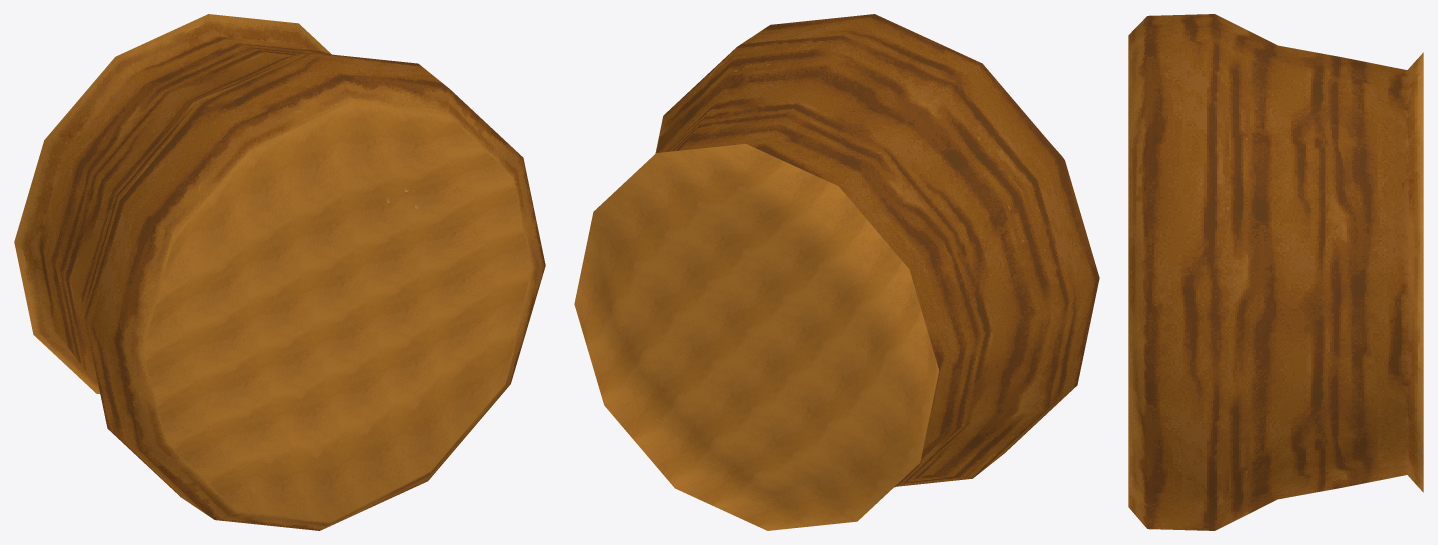
File: SM_AP_Pillar_30m_1.glb
3 renders of one model, left to right at view 1: azimuth 30°, elevation 25°; view 2: azimuth 150°, elevation 25°; view 3: azimuth 270°, elevation 25°, orthographic. The views are drawn at different scales.
Visible parts, largest first — view 1: SM_AP_Pillar_30m_1; view 2: SM_AP_Pillar_30m_1; view 3: SM_AP_Pillar_30m_1.
Part boxes in pixels (left/top/right/bottom): SM_AP_Pillar_30m_1: left=14, top=14, right=545, bottom=530; SM_AP_Pillar_30m_1: left=574, top=14, right=1099, bottom=530; SM_AP_Pillar_30m_1: left=1128, top=14, right=1423, bottom=530.
Bounding box in the file's own units: 32.41 × 32.41 × 18.56.
Materials: 1 (1 with a texture image).
